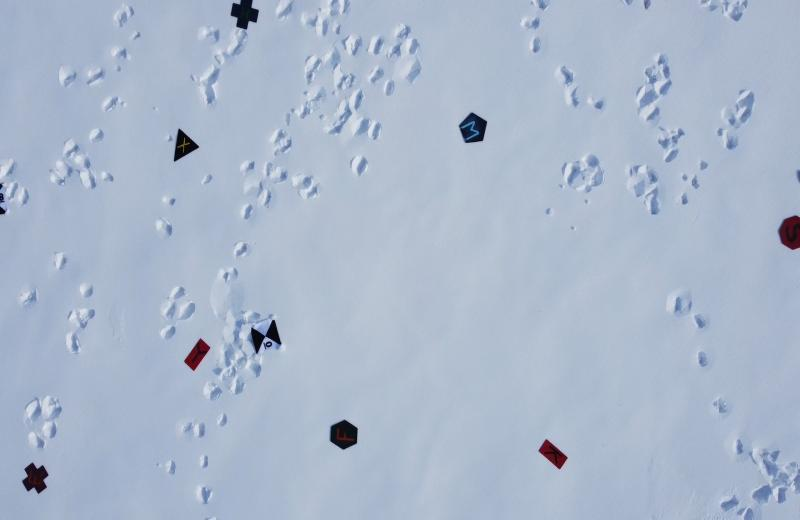Cross: (229, 0, 263, 34), (21, 460, 51, 496)
Hexagon: (326, 418, 360, 452)
Octagon: (777, 214, 800, 252)
Pentagon: (456, 109, 489, 146)
Rectangle: (536, 438, 570, 473), (182, 336, 212, 372)
Triangle: (170, 124, 200, 167)
